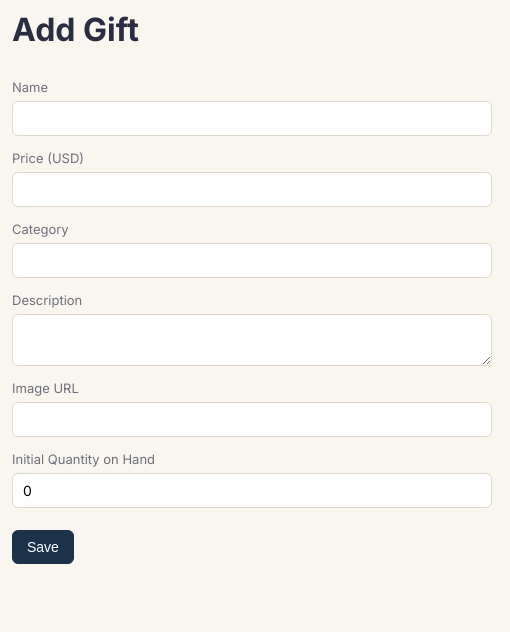
Test: GiftFormPage › shows an error message when the create fails
Type "Bad Gift" into the field labelled "Name" at (252, 118), box [12,101,492,136]
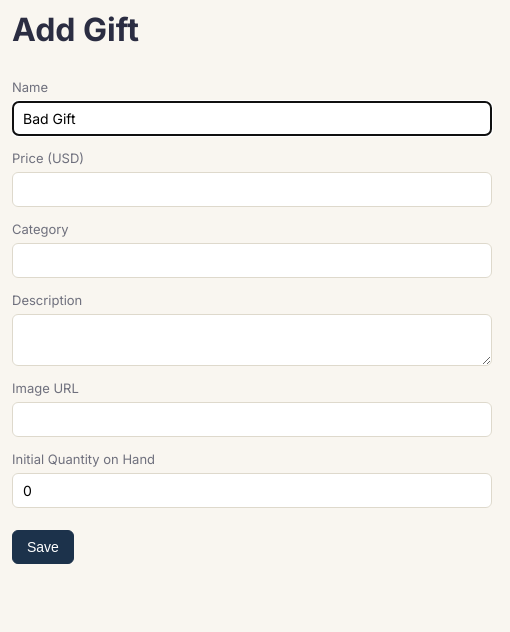
Type "1.00" into the number field labelled "Price (USD)" at (252, 189), box [12,172,492,207]
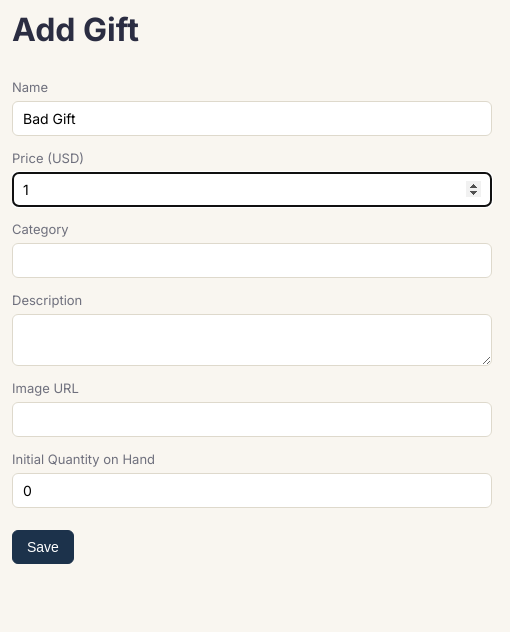
Click the button "Save" at (43, 547), box [12,530,74,564]
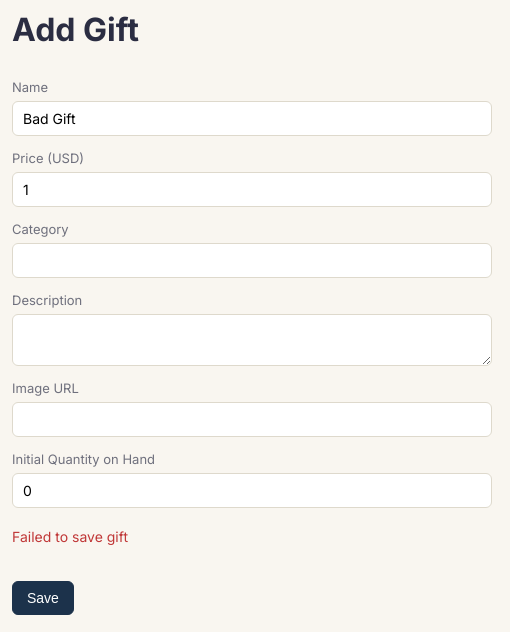
Check: the message reads "Failed to save gift", box [12,528,128,545]
